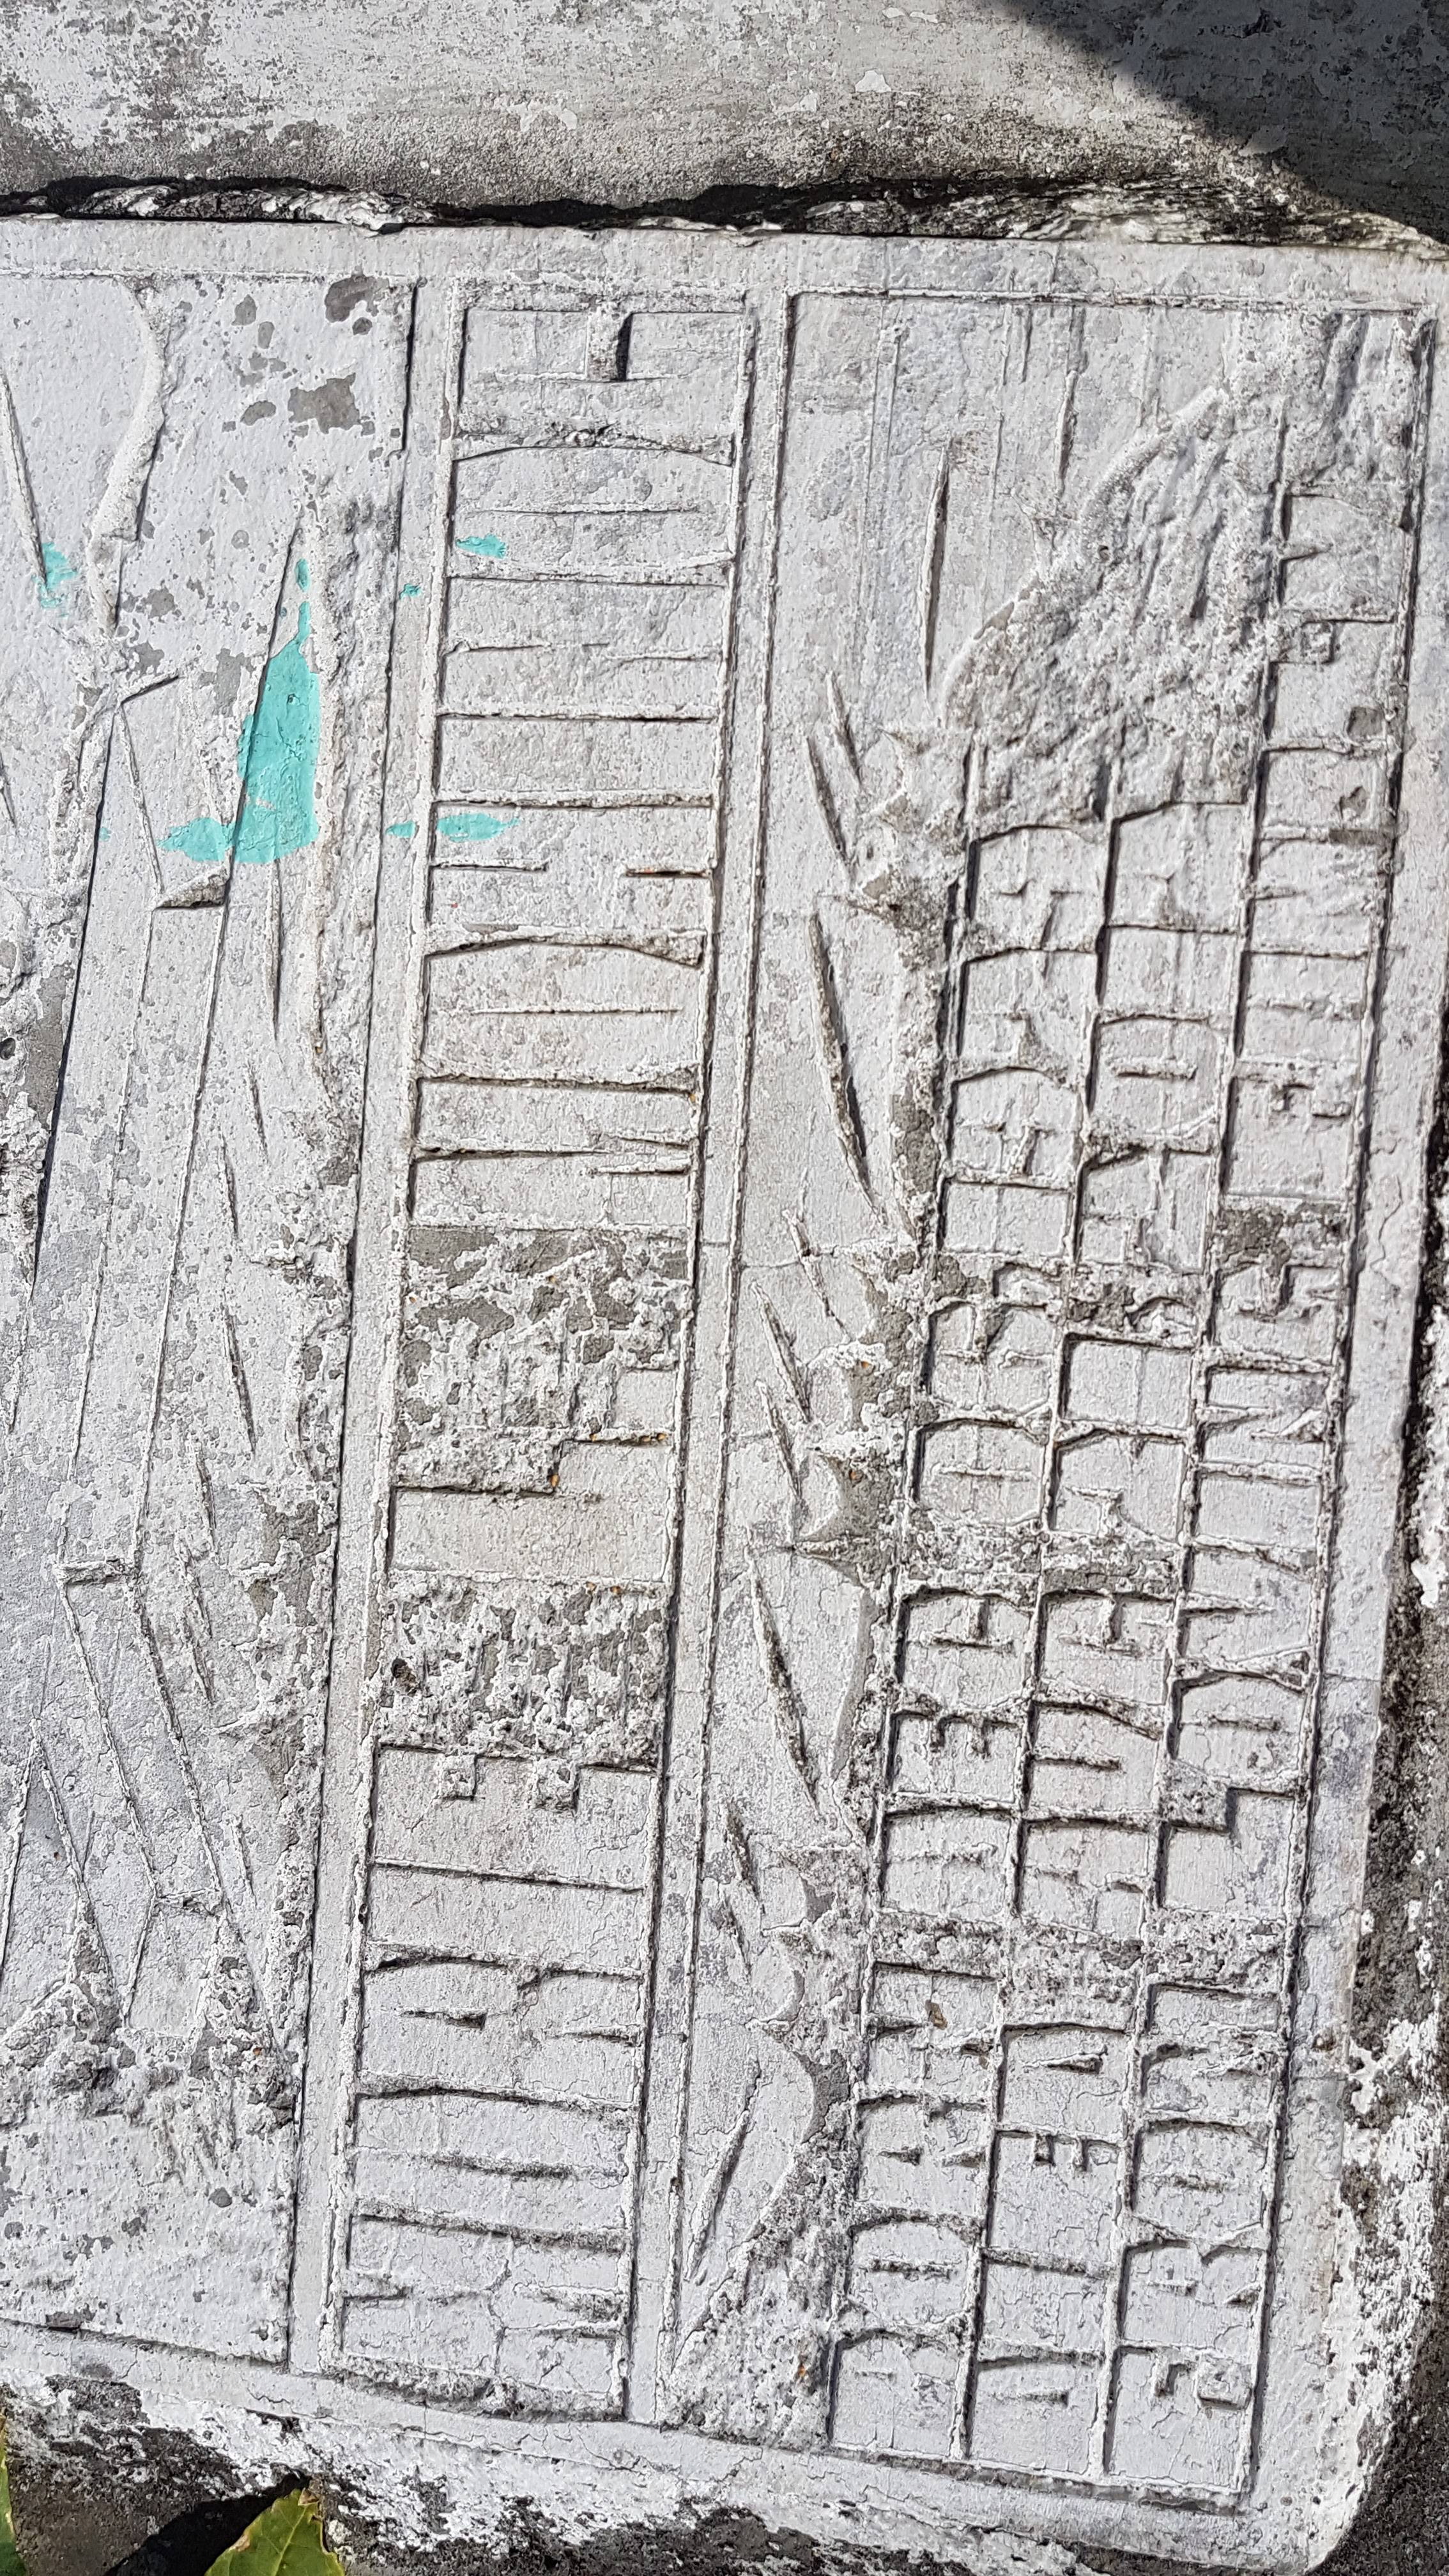flat: (0, 699, 14, 708)
